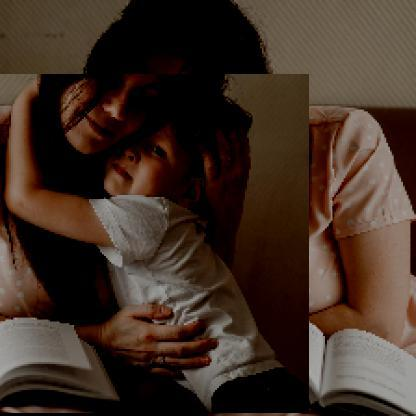child: (1, 75, 311, 415)
